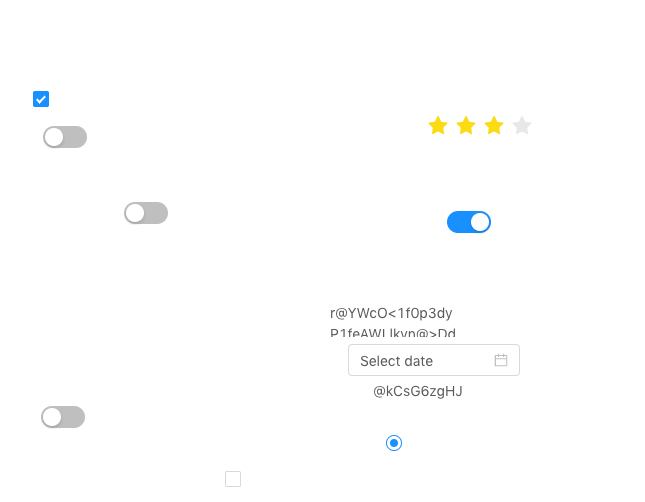Checkbox: (33, 88, 49, 109), (225, 468, 241, 489)
DatePicker: (348, 344, 520, 376)
Radio: (386, 432, 402, 452)
Rate: (428, 109, 548, 141)
Switch: (124, 201, 168, 225), (43, 125, 87, 149), (447, 210, 491, 234), (41, 405, 85, 429)
Text: (330, 302, 456, 337), (373, 380, 463, 406)
